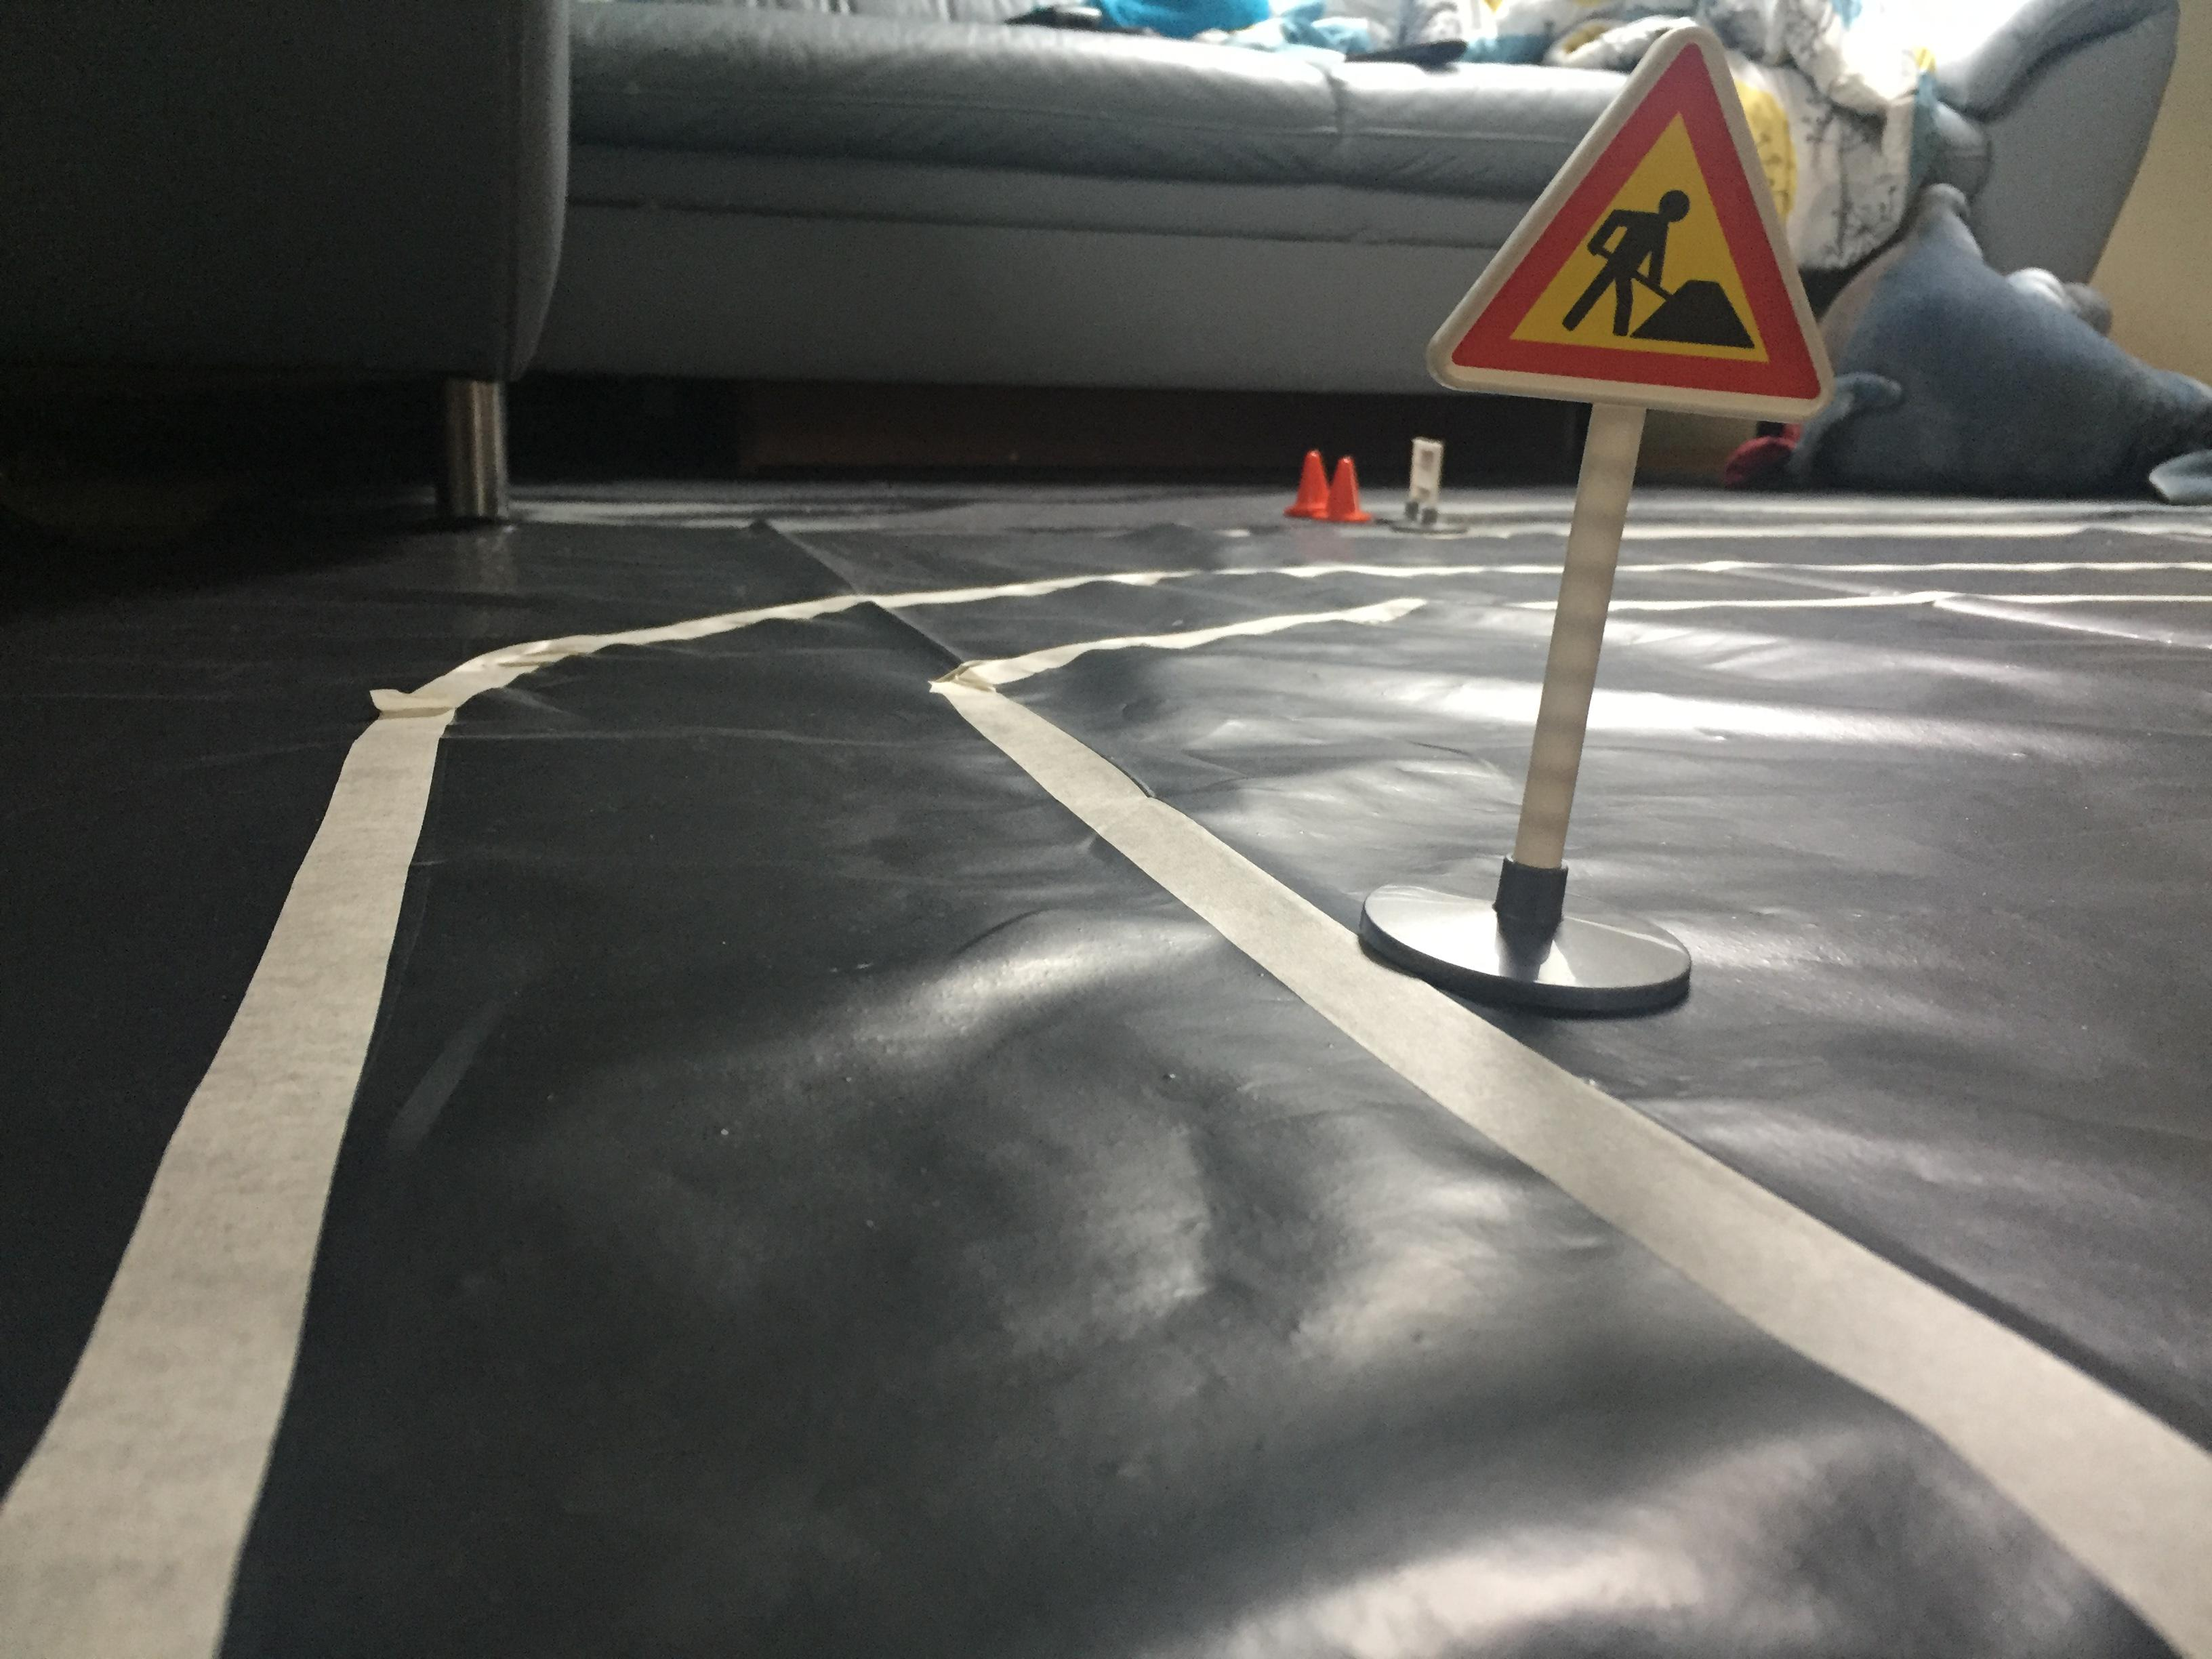work: (1407, 17, 1851, 423)
